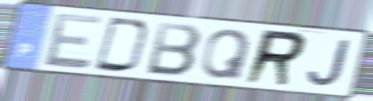B: (144, 20, 204, 79)
D: (92, 15, 153, 75)
E: (42, 11, 104, 70)
J: (305, 38, 354, 89)
Q: (199, 27, 254, 81)
R: (241, 28, 310, 89)
